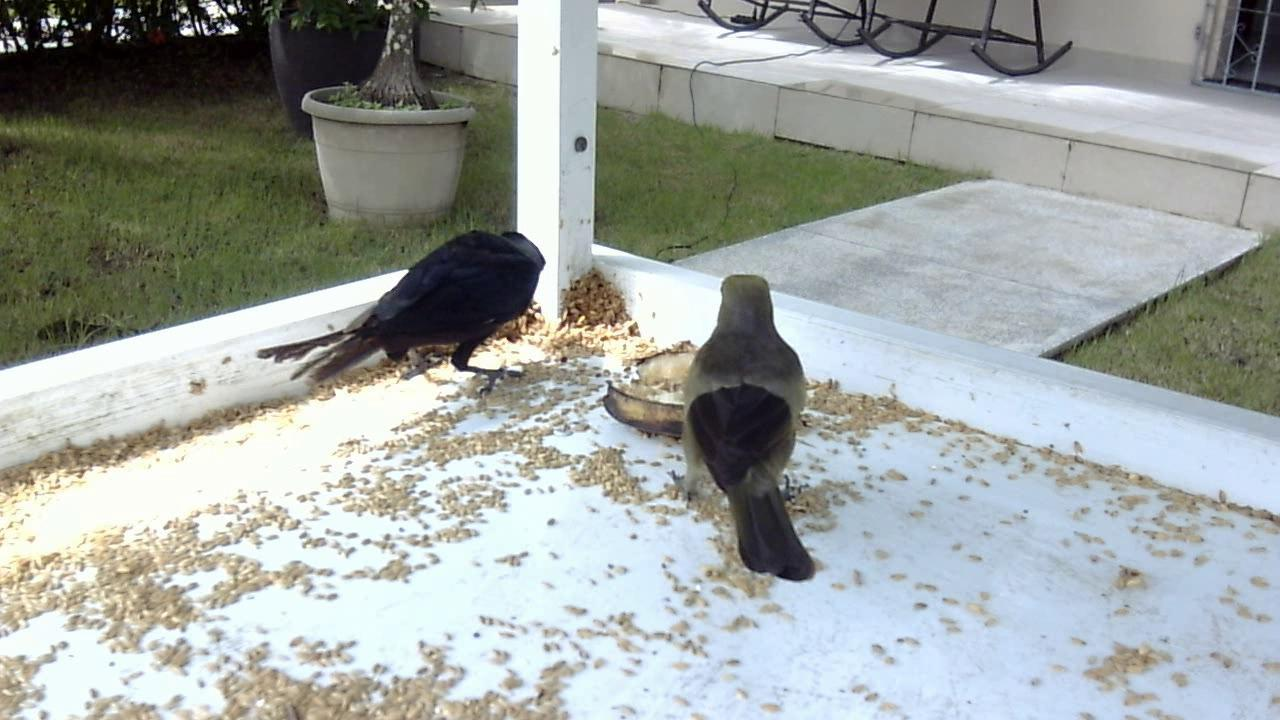chupim: (252, 217, 556, 415)
sanhaco_do_coqueiro: (666, 264, 829, 600)
